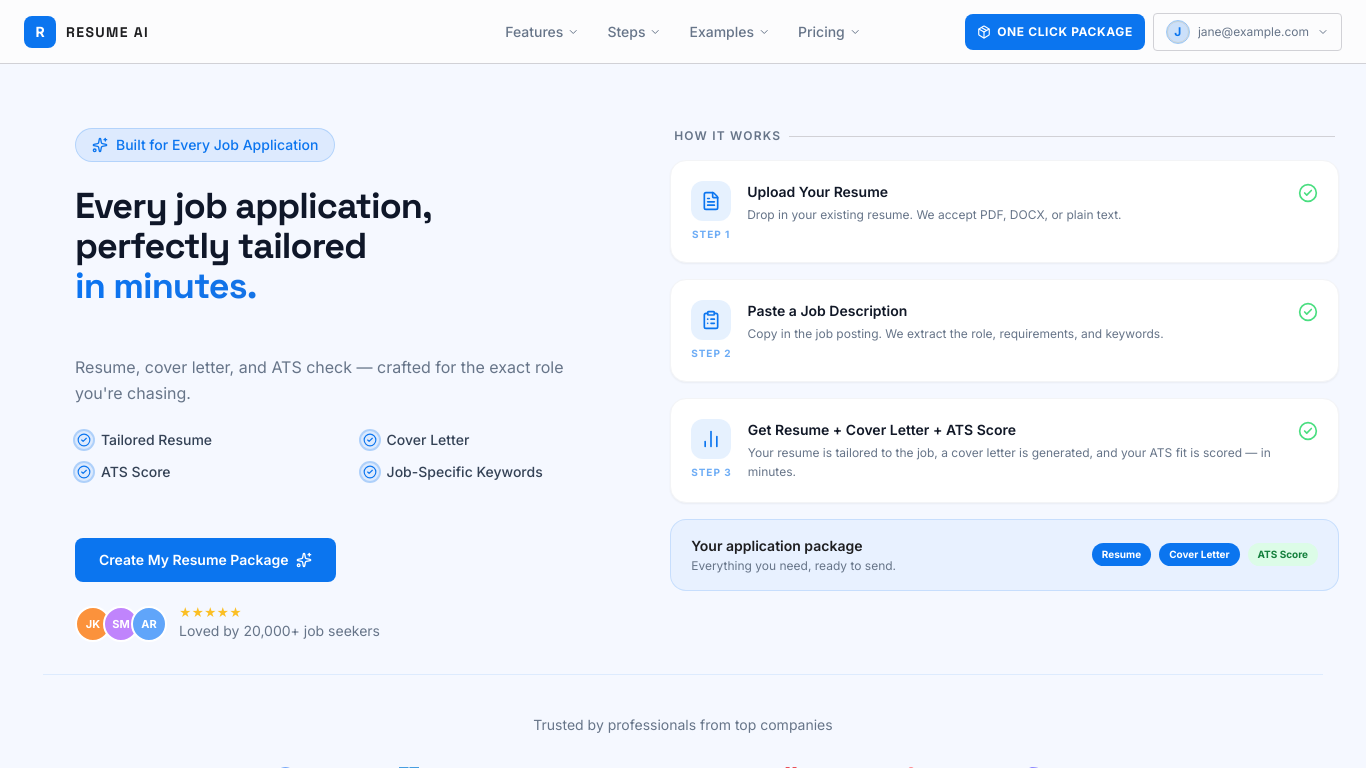
Test: Home — "Create My Resume Package" button (authenticated) › opens picker modal when a real user is logged in (isGuest: false)
What coordinates should you click on to do the following:
click the button "Create My Resume Package"
I would click on:
 (206, 560)
Its box is top-left (75, 538), bottom-right (336, 582).
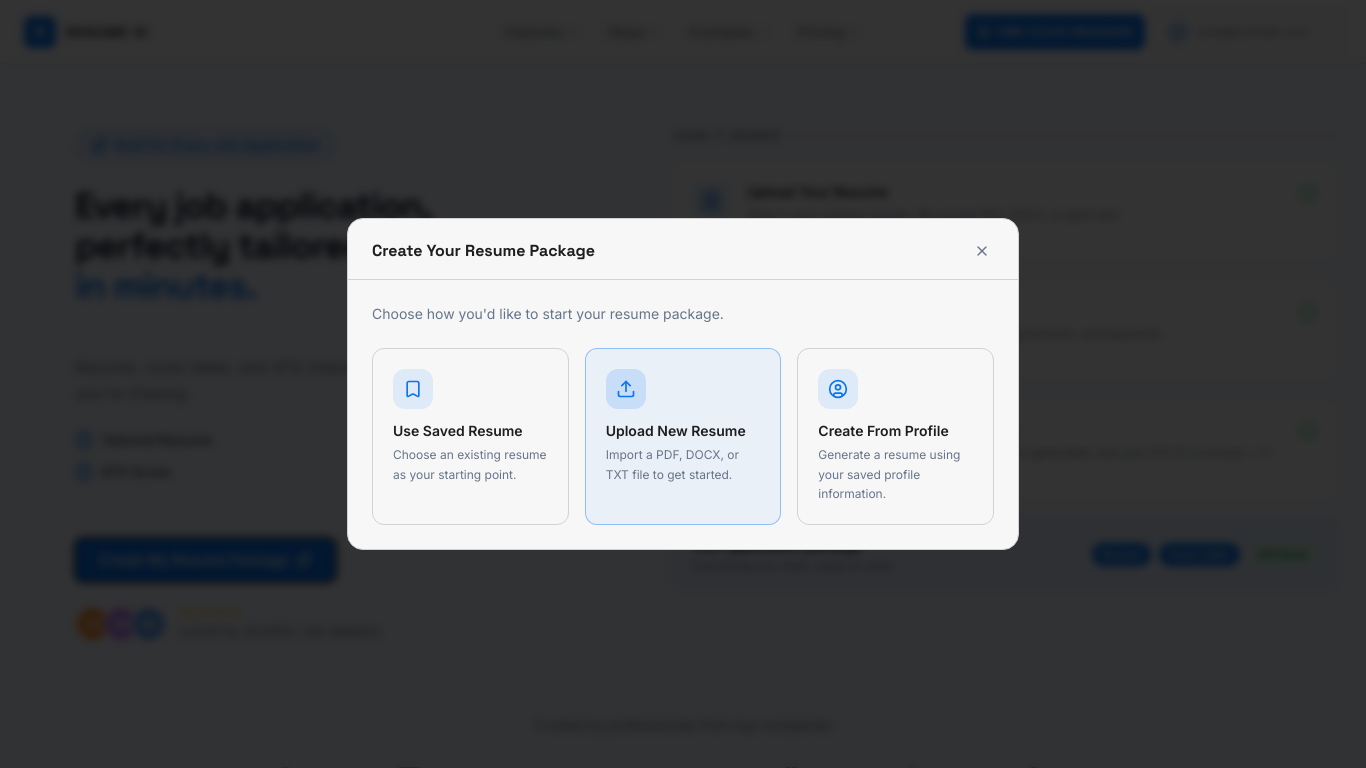
Expected: the heading "Create Your Resume Package" is shown, top-left (372, 239), bottom-right (595, 263)
